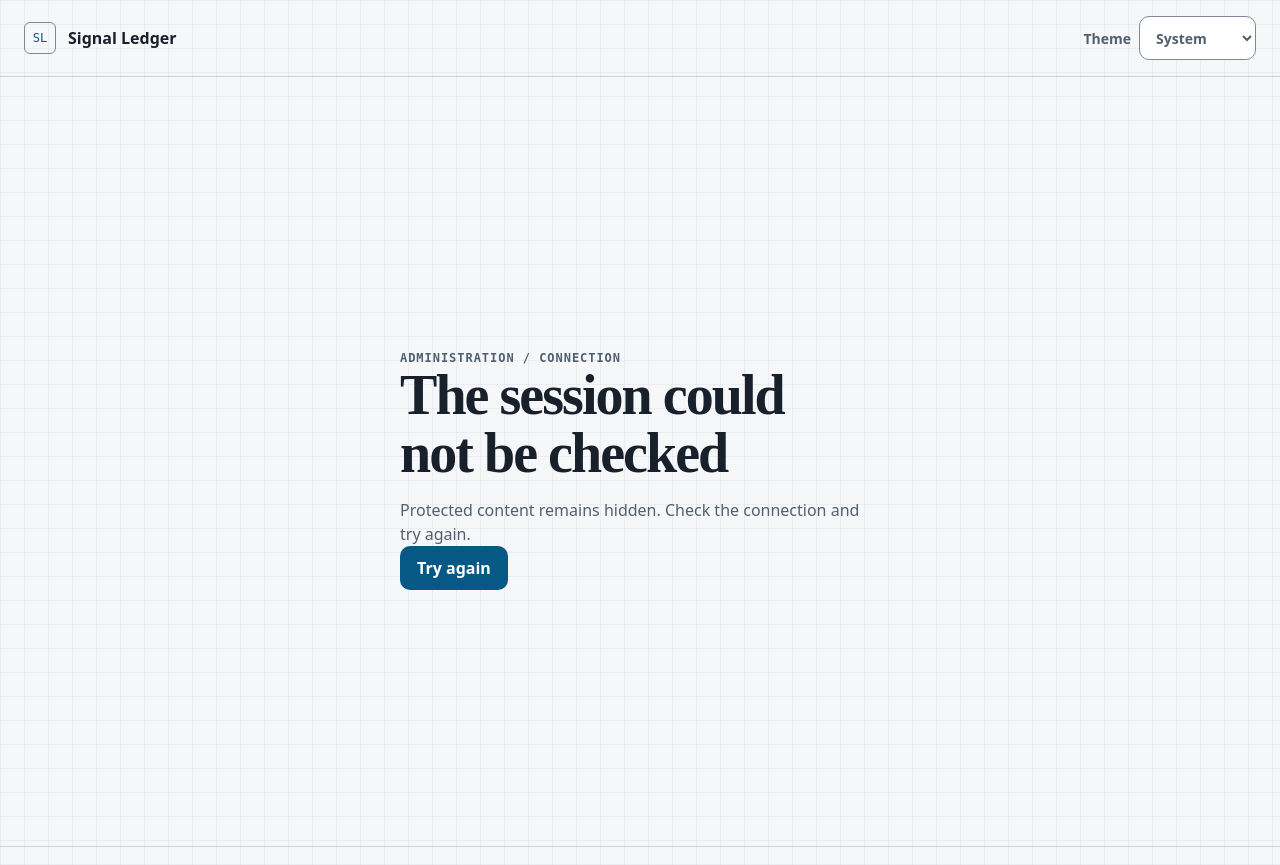
administrator auth boundary › keeps content hidden on a non-auth session-check failure and recovers through retry
Expected: the heading "The session could not be checked" is shown, top-left (400, 367), bottom-right (848, 482)
Expected: the text "Protected record" is not shown
Click the button "Try again" at [454, 568], box top-left (400, 546), bottom-right (508, 590)
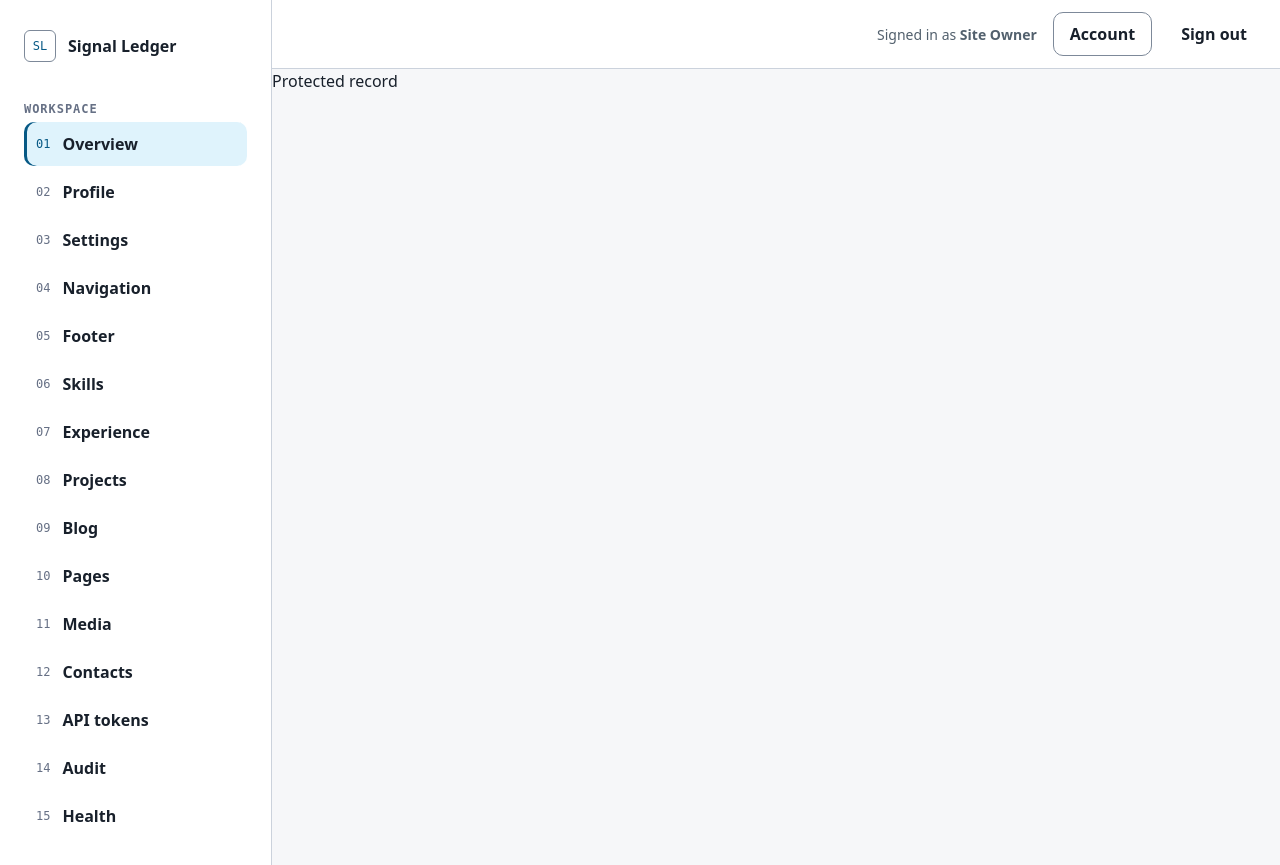
Expected: the text "Protected record" is shown, top-left (272, 70), bottom-right (398, 92)
